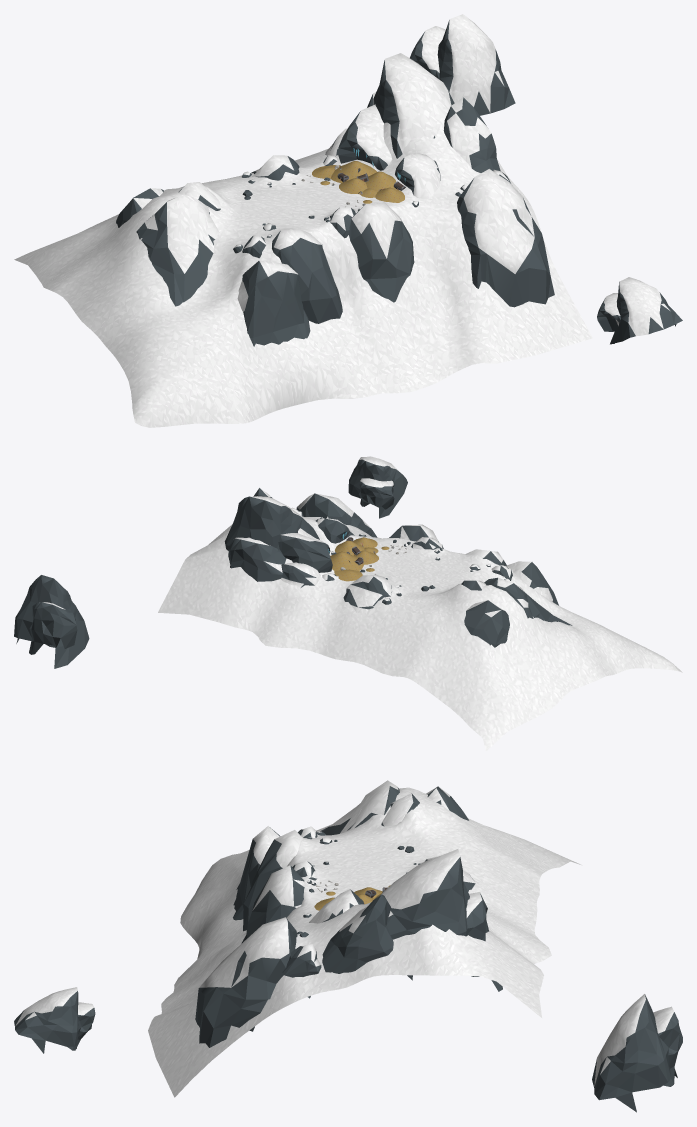
Rendered from mountainTopDio.fbx.
3 renders of one model, top to bottom at view 1: azimuth 30°, elevation 25°; view 2: azimuth 150°, elevation 25°; view 3: azimuth 270°, elevation 25°, orthographic. The views are drawn at different scales.
Visible parts, largest first — view 1: mountainTopGround, mountainTopRocks, mountainTopDistance, mountainTopGold, mountainTopDistance2; view 2: mountainTopGround, mountainTopRocks, mountainTopDistance, mountainTopGold, mountainTopDistance2; view 3: mountainTopGround, mountainTopRocks, mountainTopDistance, mountainTopDistance2, mountainTopGold.
Boxes of the visible parts, bbox=[...] form: mountainTopGround: bbox=[14, 122, 592, 427]; mountainTopRocks: bbox=[116, 53, 554, 346]; mountainTopDistance: bbox=[410, 14, 515, 115]; mountainTopGold: bbox=[233, 148, 510, 258]; mountainTopDistance2: bbox=[597, 277, 682, 344]; mountainTopGround: bbox=[158, 516, 682, 750]; mountainTopRocks: bbox=[224, 488, 572, 647]; mountainTopDistance: bbox=[14, 575, 89, 668]; mountainTopGold: bbox=[291, 507, 512, 604]; mountainTopDistance2: bbox=[348, 456, 407, 518]; mountainTopGround: bbox=[148, 787, 580, 1097]; mountainTopRocks: bbox=[195, 780, 502, 1047]; mountainTopDistance: bbox=[592, 994, 682, 1112]; mountainTopDistance2: bbox=[14, 987, 95, 1053]; mountainTopGold: bbox=[282, 826, 421, 977].
Bounding box in the file's own units: 109 × 38.41 × 106.
